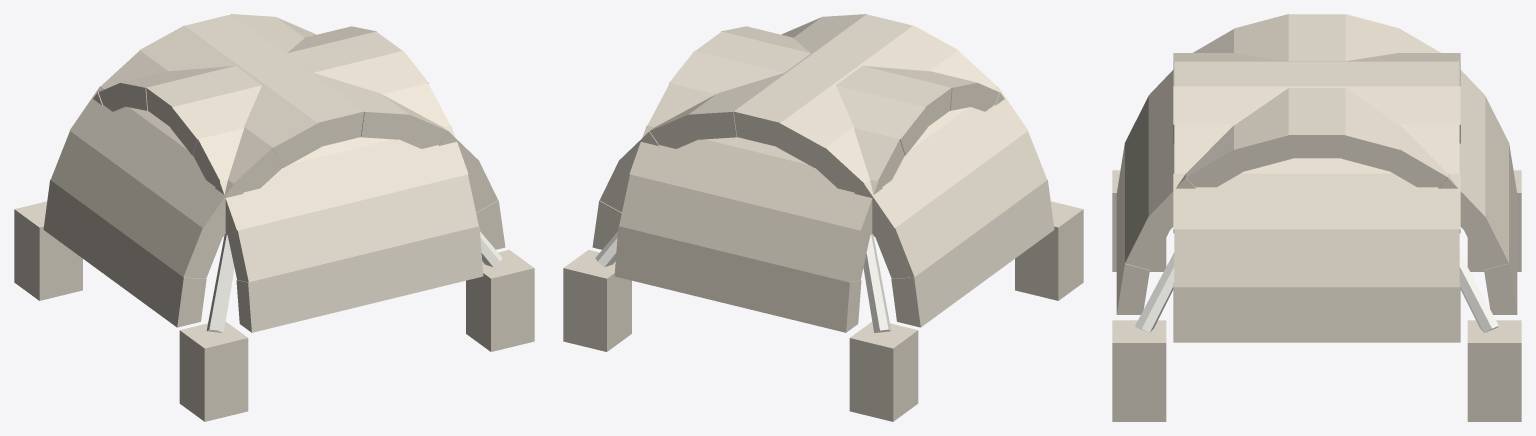
Rendered from roman-bathhouse-and-palaestra-groin-vault-section-66703c2d__37867.glb.
3 views of the same model, side by side, from view 1: azimuth 30°, elevation 25°; view 2: azimuth 150°, elevation 25°; view 3: azimuth 270°, elevation 25° (orthographic). The views are drawn at different scales.
Visible parts, largest first — view 1: groin-vault-section; view 2: groin-vault-section; view 3: groin-vault-section.
Boxes of the visible parts, bbox=[...] form: groin-vault-section: bbox=[14, 14, 534, 421]; groin-vault-section: bbox=[563, 14, 1083, 421]; groin-vault-section: bbox=[1112, 14, 1521, 421].
Bounding box in the file's own units: 4.7 × 3.32 × 4.7.
